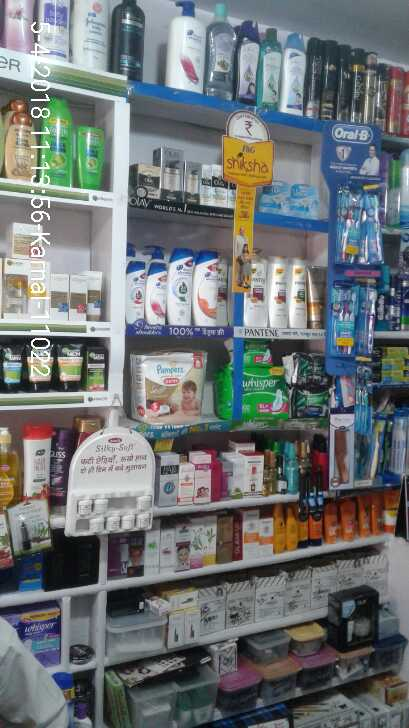gillete: (374, 266, 391, 330), (392, 273, 409, 330)
venus: (259, 181, 290, 212), (291, 184, 320, 216)
